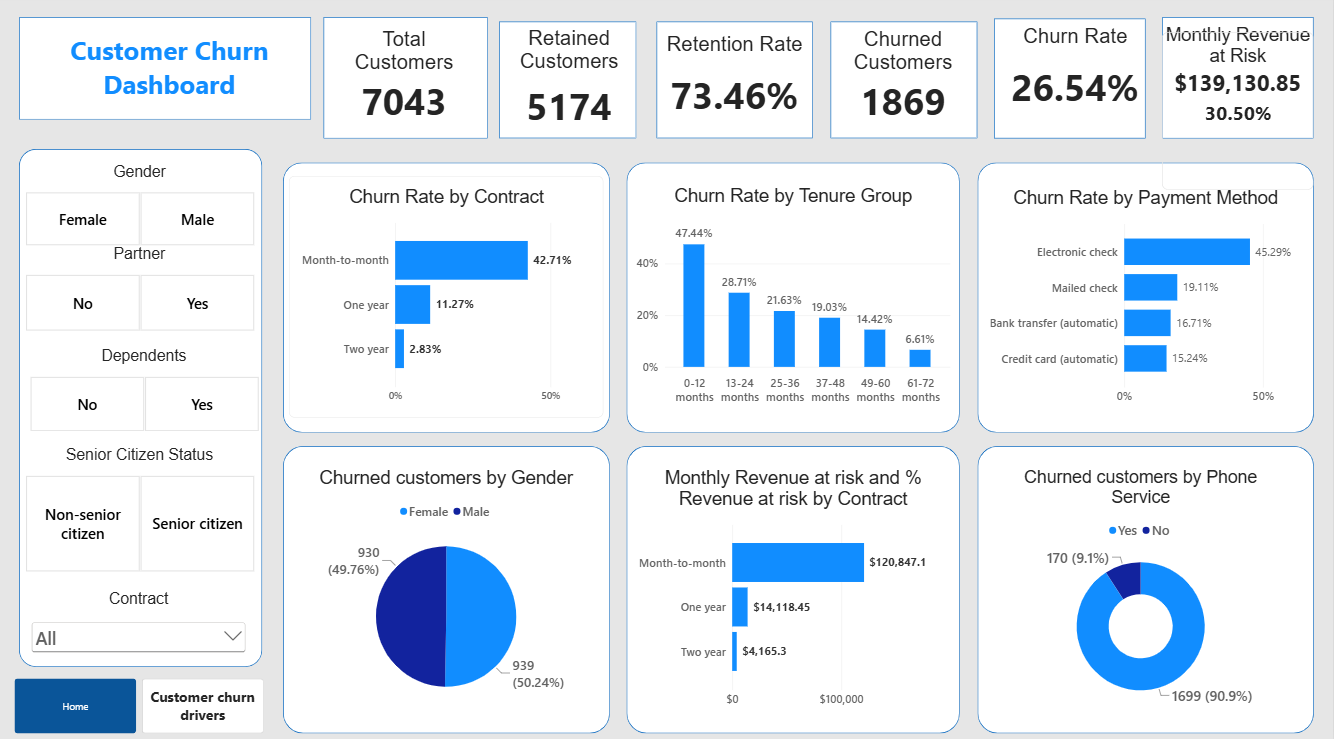

What the dashboard file says about the page in this screenshot:
{"tool":"powerbi","page":{"name":"Home","canvas":[1920,1080],"ordinal":0},"visuals":[{"type":"shape","box":[1674,34.1,218,174.9],"z":0},{"type":"shape","box":[29.5,34.1,420.2,147.6],"z":1000},{"type":"shape","box":[720,40.9,197.6,168.1],"z":2000},{"type":"shape","box":[947.1,40.9,224.9,168.1],"z":3000},{"type":"shape","box":[1197,40.9,211.2,168.1],"z":4000},{"type":"shape","box":[1433.2,36.3,218,172.6],"z":5000},{"type":"shape","box":[408.8,651.9,470.2,413.4],"z":6000},{"type":"shape","box":[904,651.9,479.2,413.4],"z":7000},{"type":"shape","box":[1408.2,651.9,483.8,413.4],"z":8000},{"type":"shape","box":[1408.2,243,483.8,388.4],"z":9000},{"type":"shape","box":[904,243,479.2,388.4],"z":10000},{"type":"shape","box":[408.8,243,470.2,388.4],"z":11000},{"type":"shape","box":[29.5,224.9,349.8,745],"z":12000},{"type":"cardVisual","title":"Retained Customers","fields":{"Data":["All measures.Retained customers"]},"box":[722.3,47.7,197.6,161.3],"z":13000},{"type":"cardVisual","title":"Churned Customers","fields":{"Data":["All measures.Churned customers"]},"box":[1219.7,50,165.8,143.1],"z":14000},{"type":"cardVisual","title":"Churn Rate","fields":{"Data":["All measures.Churn Rate"]},"box":[1433.2,45.4,233.9,145.4],"z":15000},{"type":"shape","box":[467.9,34.1,236.2,174.9],"z":16000},{"type":"cardVisual","title":"Total Customers","fields":{"Data":["All measures.Total customers"]},"box":[488.3,50,193.1,143.1],"z":17000},{"type":"cardVisual","title":"Retention Rate","fields":{"Data":["All measures.Retention Rate"]},"box":[947.1,56.8,224.9,145.4],"z":18000},{"type":"clusteredBarChart","title":"Churn Rate by Contract","fields":{"Category":["Telco_Customer_churn.Contract"],"Y":["All measures.Churn Rate"]},"box":[417.9,263.5,452,347.5],"z":19000},{"type":"clusteredColumnChart","title":"Churn Rate by Tenure Group","fields":{"Category":["Telco_Customer_churn.Tenure Group"],"Y":["All measures.Churn Rate"]},"box":[901.7,263.5,483.8,347.5],"z":20000},{"type":"clusteredBarChart","title":"Churn Rate by Payment Method","fields":{"Category":["Telco_Customer_churn.PaymentMethod"],"Y":["All measures.Churn Rate"]},"box":[1408.2,265.7,483.8,347.5],"z":21000},{"type":"pieChart","title":"Churned customers by Gender","fields":{"Category":["Telco_Customer_churn.gender"],"Y":["All measures.Churned customers"]},"box":[417.9,667.8,452,379.3],"z":22000},{"type":"clusteredBarChart","fields":{"Category":["Telco_Customer_churn.Contract"],"Y":["All measures.Monthly Revenue at risk"]},"box":[904,667.8,479.2,379.3],"z":23000},{"type":"donutChart","title":"Churned customers by Phone Service","fields":{"Category":["Telco_Customer_churn.PhoneService"],"Y":["All measures.Churned customers"]},"box":[1417.3,667.8,452,379.3],"z":24000},{"type":"slicer","title":"Partner","fields":{"Values":["Telco_Customer_churn.Partner"]},"box":[20.4,363.4,368,124.9],"z":25000},{"type":"slicer","title":"Dependents","fields":{"Values":["Telco_Customer_churn.Dependents"]},"box":[25,508.8,368,122.7],"z":26000},{"type":"slicer","title":"Senior Citizen Status","fields":{"Values":["Telco_Customer_churn.SeniorCitizenStatus"]},"box":[20.4,651.9,368,181.7],"z":27000},{"type":"slicer","title":"Contract","fields":{"Values":["Telco_Customer_churn.Contract"]},"box":[43.2,858.6,318,168.1],"z":28000},{"type":"slicer","title":"Gender","fields":{"Values":["Telco_Customer_churn.gender"]},"box":[20.4,243,368,120.4],"z":29000},{"type":"textbox","box":[43.2,56.8,406.6,122.7],"z":30000},{"type":"pageNavigator","box":[22.7,985.7,358.9,79.5],"z":31000},{"type":"cardVisual","title":"Monthly Revenue at Risk","fields":{"Data":["All measures.Monthly Revenue at risk"]},"box":[1674,45.4,218,106.8],"z":32000},{"type":"cardVisual","fields":{"Data":["All measures.% Revenue at risk"]},"box":[1674,56.8,218,227.1],"z":32001}]}

Visuals, with their boxes in screenshot pixels (x1, y1, x2, y2), scaled from the page's 1920x1080 canvas onto the 1334x739 screenshot:
shape: [left=1163, top=23, right=1315, bottom=143]
shape: [left=20, top=23, right=312, bottom=124]
shape: [left=500, top=28, right=638, bottom=143]
shape: [left=658, top=28, right=814, bottom=143]
shape: [left=832, top=28, right=978, bottom=143]
shape: [left=996, top=25, right=1147, bottom=143]
shape: [left=284, top=446, right=611, bottom=729]
shape: [left=628, top=446, right=961, bottom=729]
shape: [left=978, top=446, right=1315, bottom=729]
shape: [left=978, top=166, right=1315, bottom=432]
shape: [left=628, top=166, right=961, bottom=432]
shape: [left=284, top=166, right=611, bottom=432]
shape: [left=20, top=154, right=264, bottom=664]
"Retained Customers" cardVisual: [left=502, top=33, right=639, bottom=143]
"Churned Customers" cardVisual: [left=847, top=34, right=963, bottom=132]
"Churn Rate" cardVisual: [left=996, top=31, right=1158, bottom=131]
shape: [left=325, top=23, right=489, bottom=143]
"Total Customers" cardVisual: [left=339, top=34, right=473, bottom=132]
"Retention Rate" cardVisual: [left=658, top=39, right=814, bottom=138]
"Churn Rate by Contract" clusteredBarChart: [left=290, top=180, right=604, bottom=418]
"Churn Rate by Tenure Group" clusteredColumnChart: [left=626, top=180, right=963, bottom=418]
"Churn Rate by Payment Method" clusteredBarChart: [left=978, top=182, right=1315, bottom=420]
"Churned customers by Gender" pieChart: [left=290, top=457, right=604, bottom=716]
clusteredBarChart - Telco_Customer_churn.Contract x All measures.Monthly Revenue at risk: [left=628, top=457, right=961, bottom=716]
"Churned customers by Phone Service" donutChart: [left=985, top=457, right=1299, bottom=716]
"Partner" slicer: [left=14, top=249, right=270, bottom=334]
"Dependents" slicer: [left=17, top=348, right=273, bottom=432]
"Senior Citizen Status" slicer: [left=14, top=446, right=270, bottom=570]
"Contract" slicer: [left=30, top=588, right=251, bottom=703]
"Gender" slicer: [left=14, top=166, right=270, bottom=249]
textbox: [left=30, top=39, right=313, bottom=123]
pageNavigator: [left=16, top=674, right=265, bottom=729]
"Monthly Revenue at Risk" cardVisual: [left=1163, top=31, right=1315, bottom=104]
cardVisual - All measures.% Revenue at risk: [left=1163, top=39, right=1315, bottom=194]
